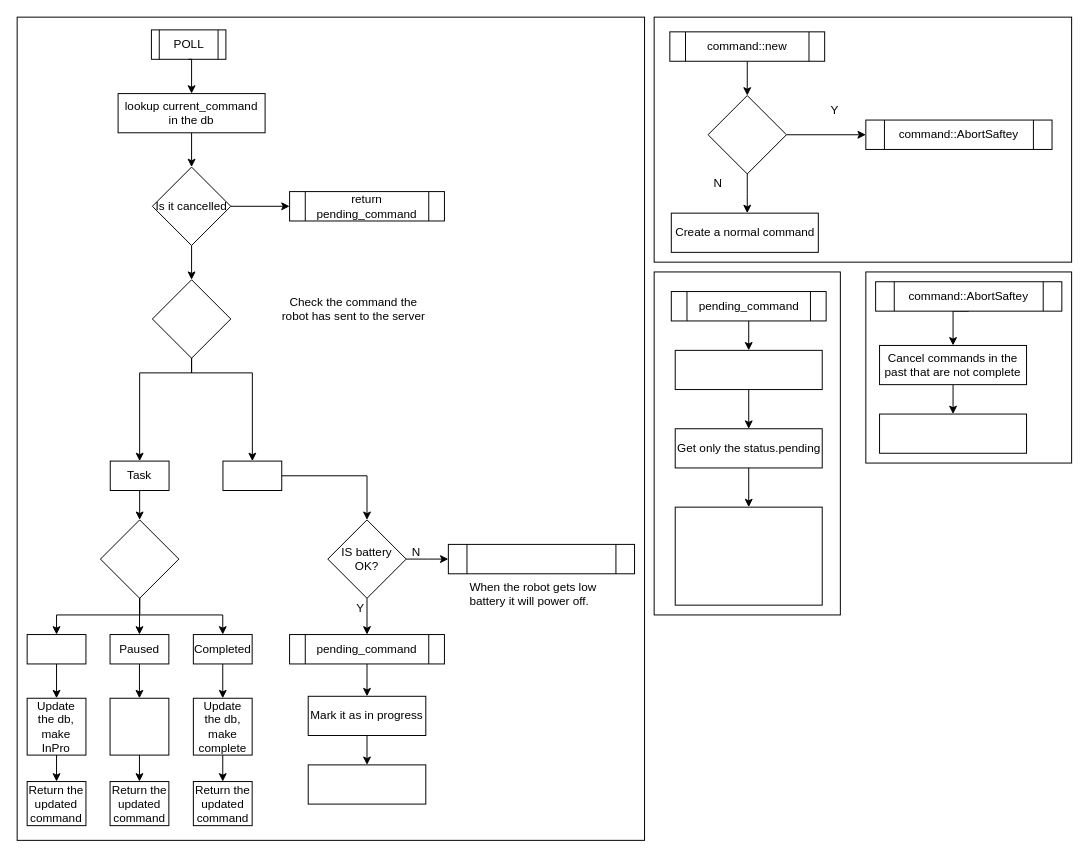
Some shapes in this 1089 by 858 pixel diagram are drawn without their labels. The box of each missing label's shape, as (x1, y1, x2, y2) in pixels:
Create a new Abort reason Command: (879, 413, 1027, 453)
current_instruction: (151, 279, 231, 358)
Get all commands in the db for that robot: (674, 349, 822, 390)
Idle: (222, 460, 282, 490)
If the task is abort Saftey: (707, 95, 786, 174)
InProgress: (26, 634, 86, 664)
return command.abort(LowBattery): (447, 543, 635, 574)
Return it to the robot: (307, 764, 426, 804)
Sort the commands in the order of time_instruction Return the first one.: (674, 506, 822, 605)
status: (99, 519, 179, 598)
Update the db, make paused: (109, 697, 169, 755)
